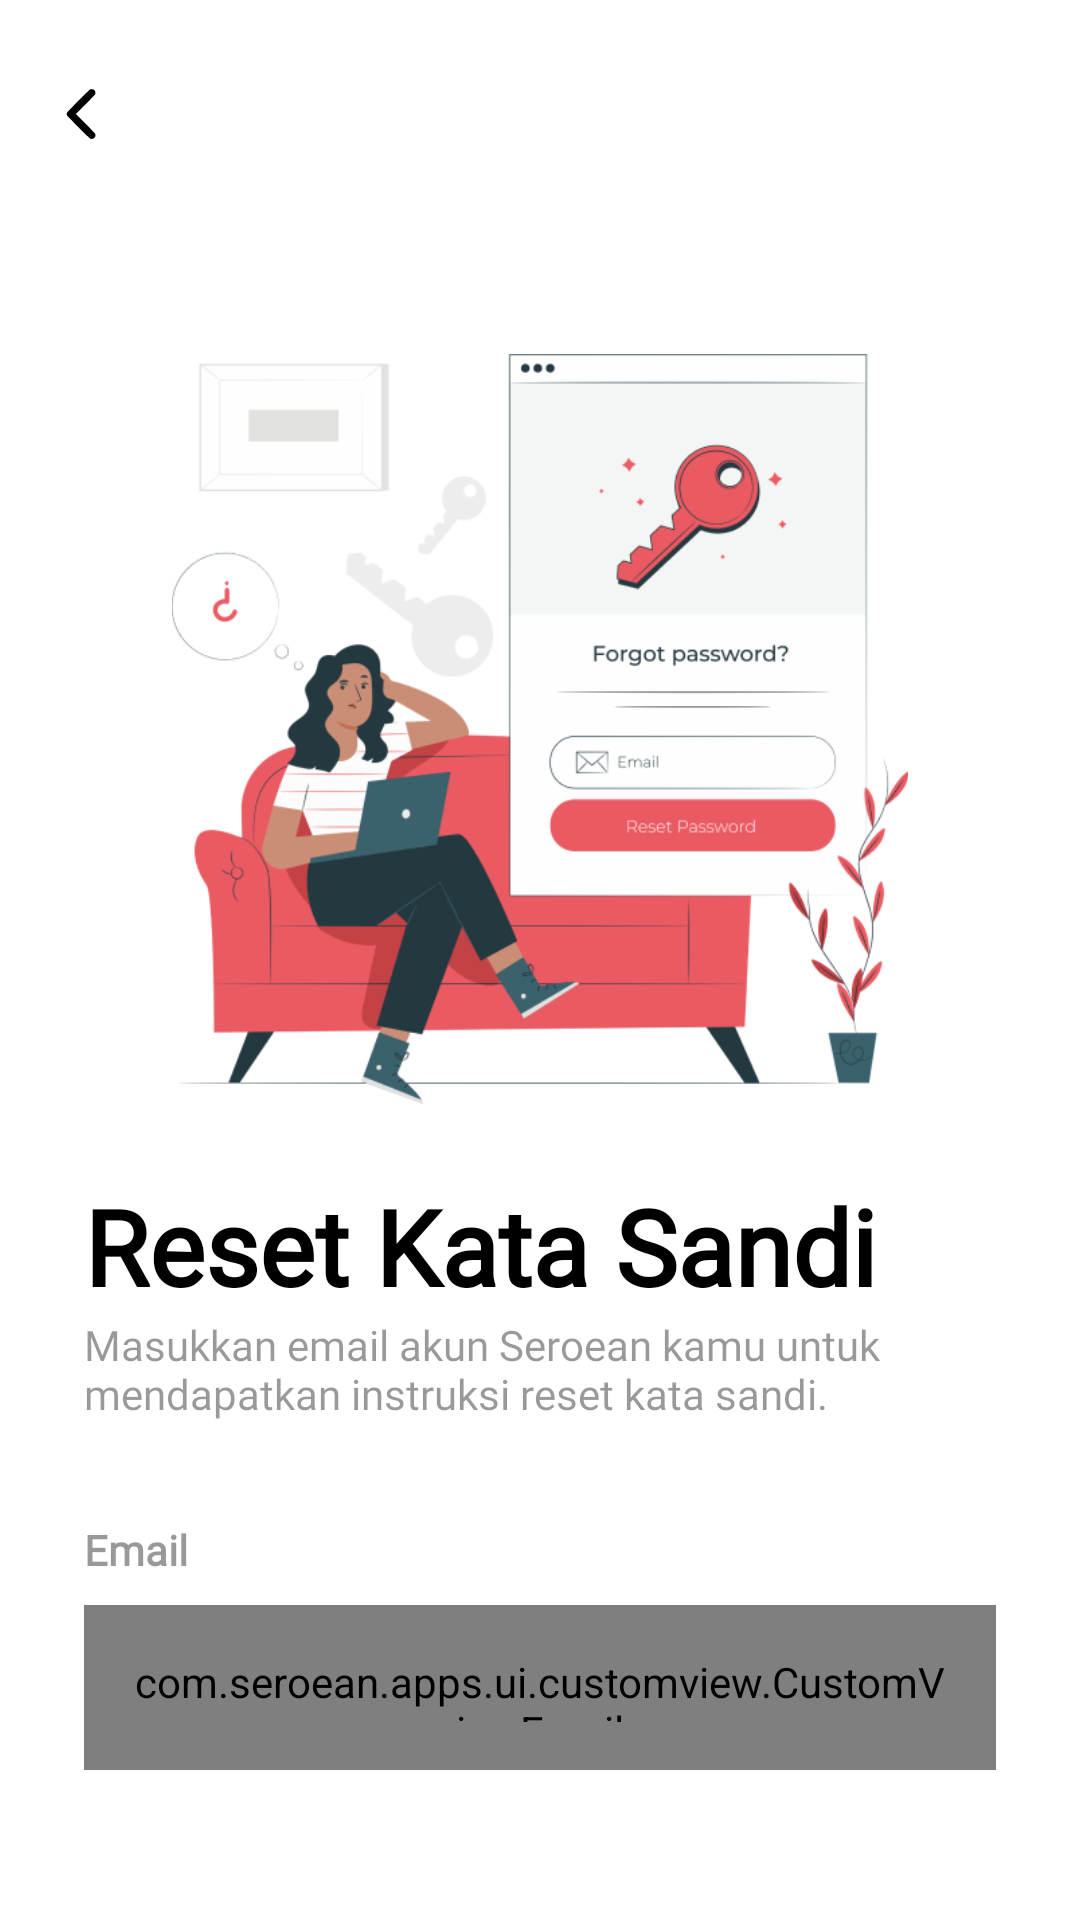

Named icons in this screenshot (1080w x 1920h) and their bounding boxes, detection(x1, y1, x2, y2):
Kembali: detection(66, 89, 96, 139)
